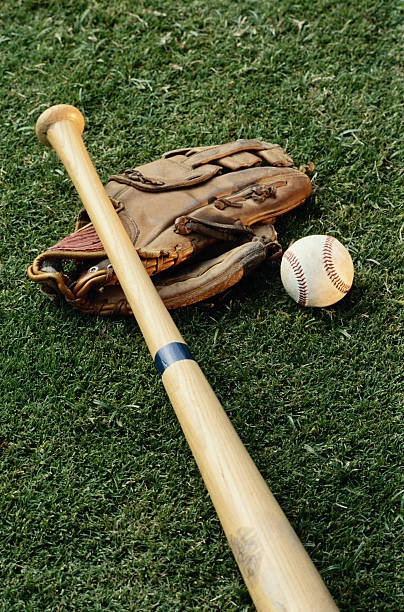bita: (39, 103, 328, 612)
